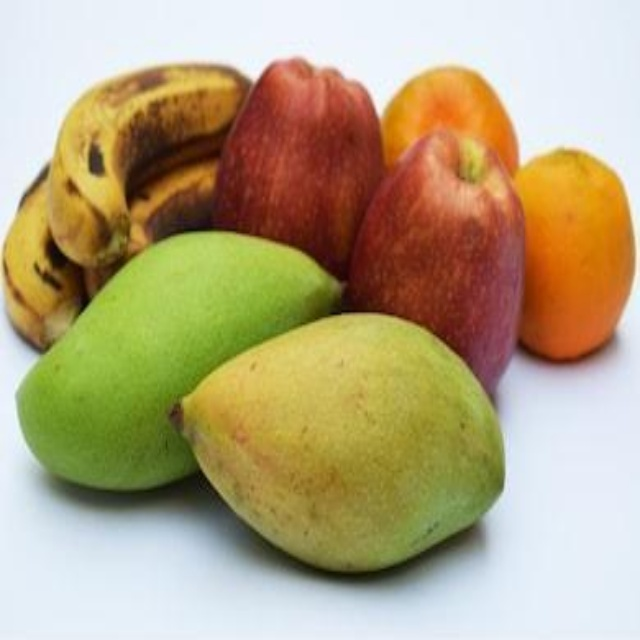mango: (180, 312, 515, 579), (20, 236, 345, 490)
